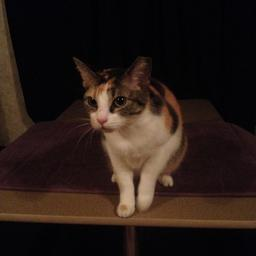cat: (65, 50, 195, 216)
